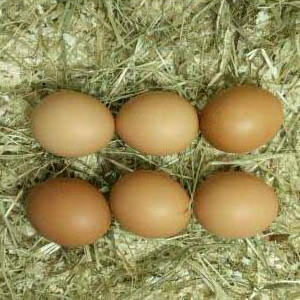egg: (24, 178, 112, 249), (115, 89, 201, 160), (193, 170, 280, 238), (30, 90, 115, 159), (201, 85, 285, 154), (110, 170, 193, 239)
